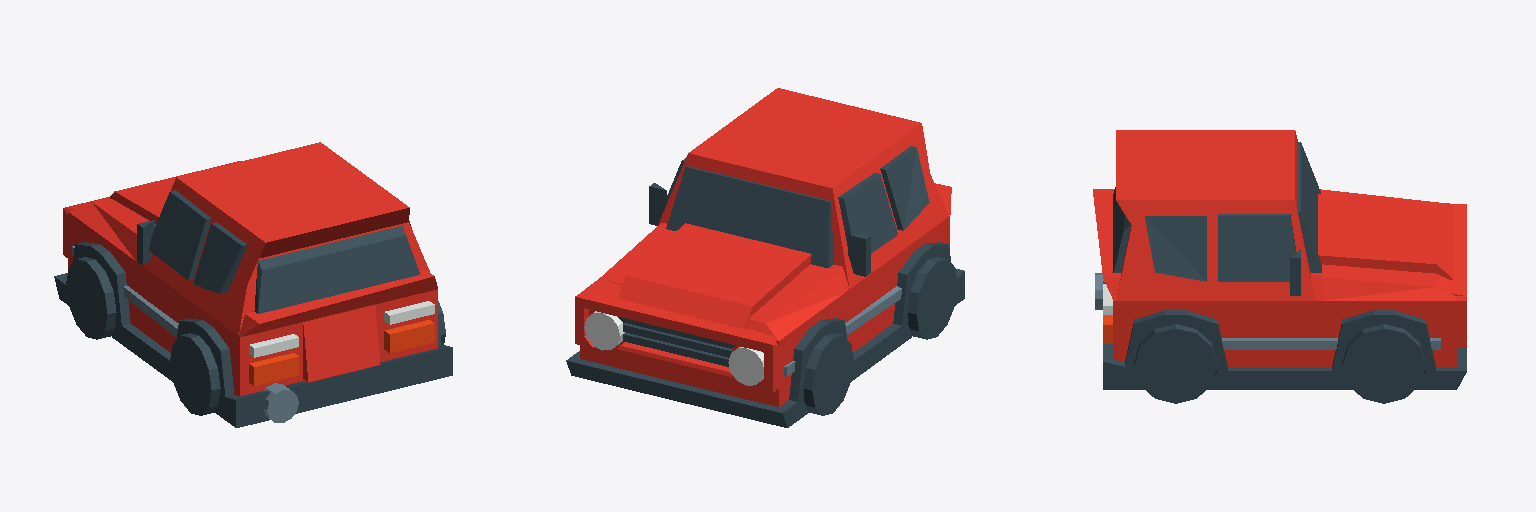
3 views of the same model, side by side, from view 1: azimuth 30°, elevation 25°; view 2: azimuth 150°, elevation 25°; view 3: azimuth 270°, elevation 25° (orthographic).
Visible parts, largest first — view 1: group[number redacted], group[number redacted], group[number redacted], group[number redacted], group[number redacted], group[number redacted], group[number redacted], group[number redacted], group[number redacted], group[number redacted], group[number redacted], group[number redacted] (+4 smaller); view 2: group[number redacted], group[number redacted], group[number redacted], group[number redacted], group[number redacted], group[number redacted], group[number redacted], group[number redacted], group[number redacted], group[number redacted], group[number redacted], group[number redacted] (+3 smaller); view 3: group[number redacted], group[number redacted], group[number redacted], group[number redacted], group[number redacted], group[number redacted], group[number redacted], group[number redacted], group[number redacted], group[number redacted], group[number redacted], group[number redacted] (+2 smaller).
Part boxes in pixels (x1,y1,x2,y2): group[number redacted]: (68, 142, 437, 395); group[number redacted]: (254, 226, 419, 313); group[number redacted]: (213, 344, 452, 427); group[number redacted]: (149, 190, 247, 293); group[number redacted]: (303, 305, 380, 382); group[number redacted]: (170, 301, 445, 415); group[number redacted]: (66, 257, 116, 339); group[number redacted]: (384, 301, 434, 352); group[number redacted]: (249, 334, 298, 385); group[number redacted]: (73, 242, 130, 325); group[number redacted]: (177, 318, 233, 396); group[number redacted]: (112, 322, 172, 381); group[number redacted]: (580, 88, 951, 406); group[number redacted]: (666, 166, 833, 267); group[number redacted]: (575, 290, 783, 391); group[number redacted]: (838, 146, 929, 253); group[number redacted]: (566, 351, 807, 427); group[number redacted]: (803, 333, 853, 415); group[number redacted]: (907, 257, 957, 339); group[number redacted]: (618, 317, 735, 366); group[number redacted]: (584, 311, 763, 385); group[number redacted]: (789, 318, 846, 401); group[number redacted]: (893, 242, 950, 325); group[number redacted]: (851, 322, 911, 381); group[number redacted]: (1093, 130, 1456, 366); group[number redacted]: (1145, 214, 1296, 281); group[number redacted]: (1342, 324, 1425, 403); group[number redacted]: (1134, 324, 1217, 403); group[number redacted]: (1207, 367, 1352, 389); group[number redacted]: (1332, 310, 1435, 370); group[number redacted]: (1125, 310, 1227, 370); group[number redacted]: (1298, 142, 1321, 272); group[number redacted]: (1447, 204, 1466, 347); group[number redacted]: (1222, 338, 1440, 349); group[number redacted]: (1103, 281, 1144, 389); group[number redacted]: (1415, 348, 1466, 389).
Bounding box in the file's own units: 0.26 × 0.1923 × 0.36.